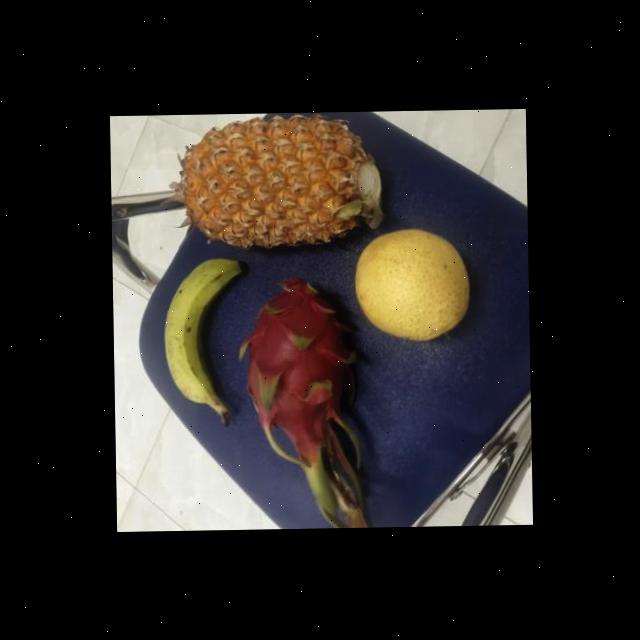banana: (162, 250, 246, 410)
pear: (349, 221, 468, 341)
pineapple: (176, 111, 386, 252)
pitaya: (237, 264, 360, 448)
